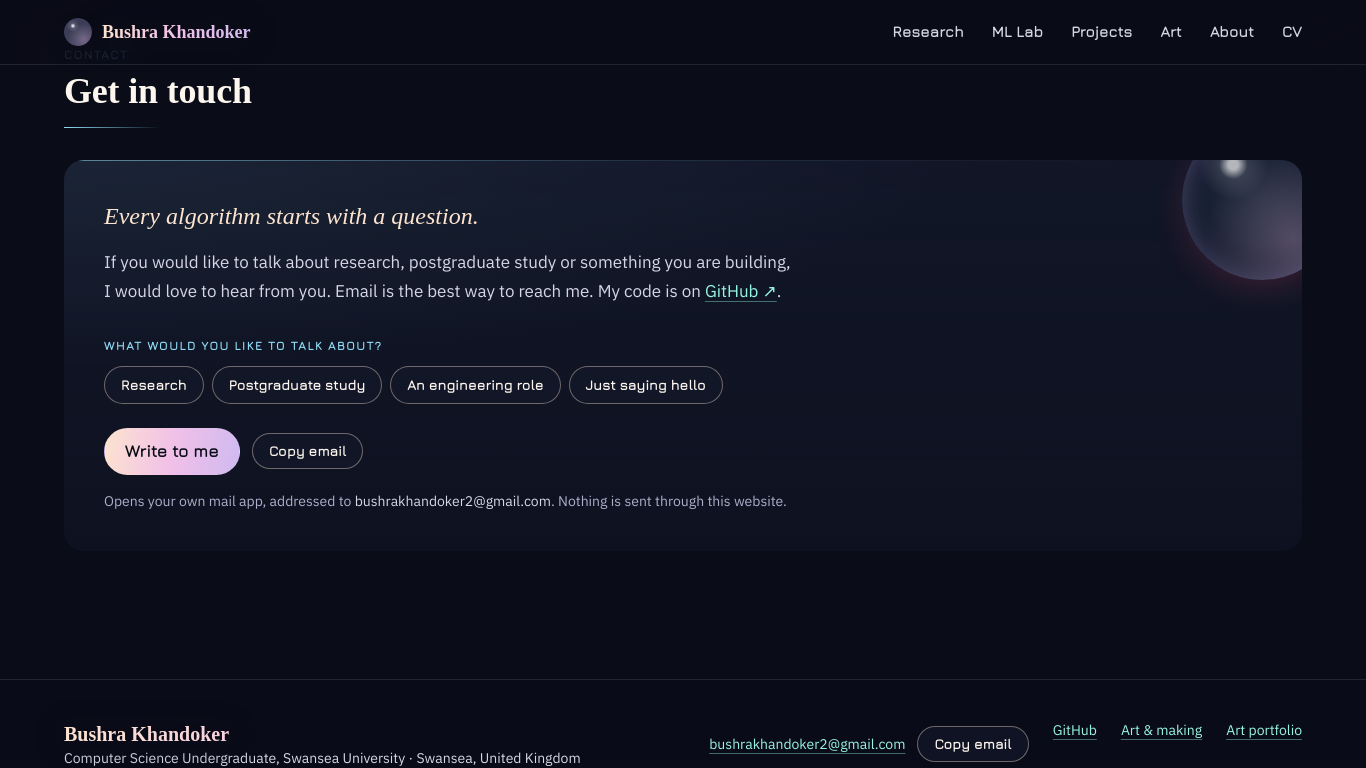
contact › topic buttons pre-fill the subject and copy puts the address on the clipboard
The image size is (1366, 768).
(page scrolled)
Click the button "Research" at (154, 385), box [104,366,204,404]
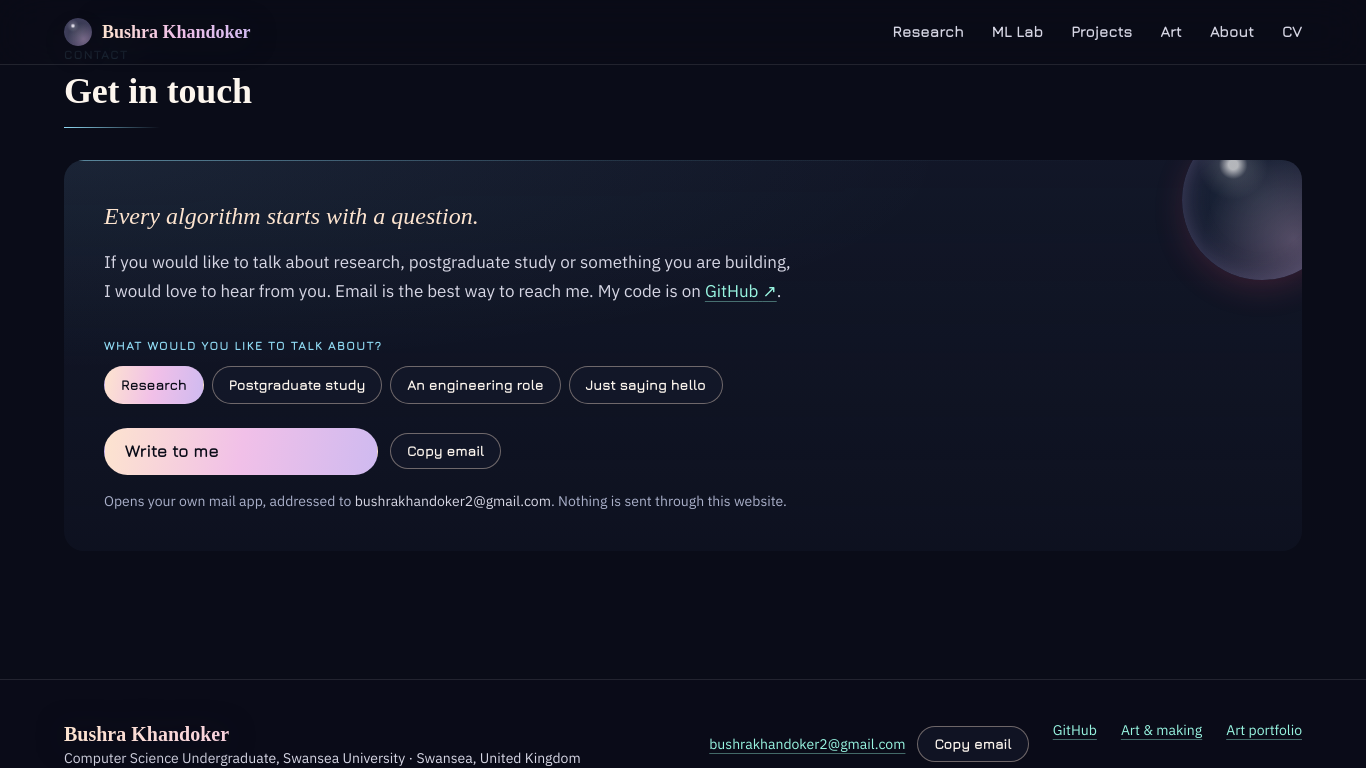
Expected: the button "Research" is pressed, [104,366,204,404]
Click the button "Copy email" in the row of "Write to me" at (446, 451), box [390,433,501,469]
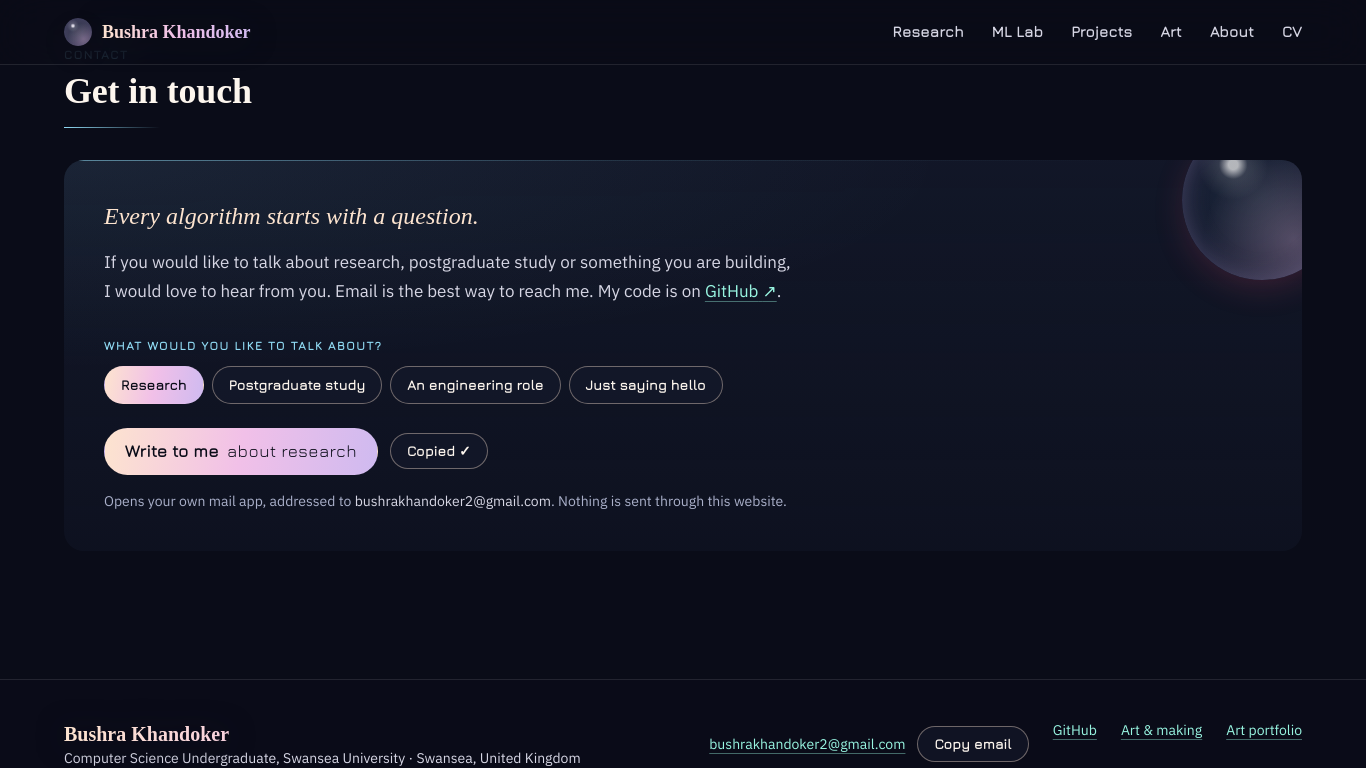
Expected: the button "Copied ✓" is shown, [390,433,488,469]
